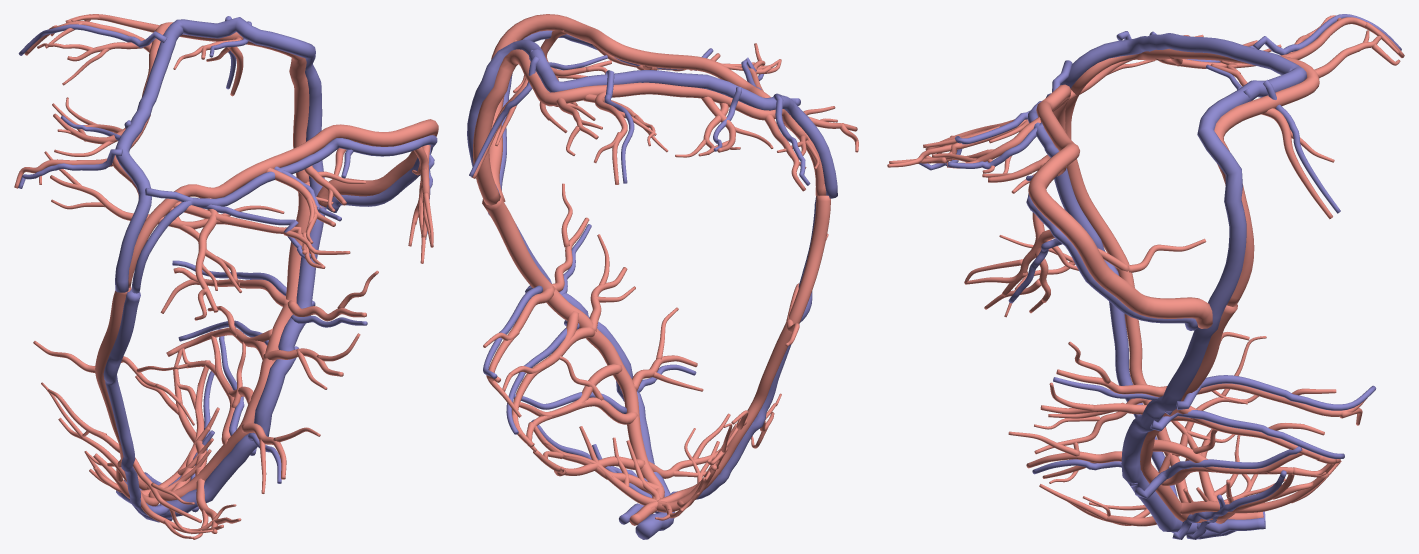
The model's file is vessels_38.glb.
3 renders of one model, left to right at view 1: azimuth 30°, elevation 25°; view 2: azimuth 150°, elevation 25°; view 3: azimuth 270°, elevation 25°, orthographic. The views are drawn at different scales.
Parts seen in each view (by area): view 1: Renderer Node; view 2: Renderer Node; view 3: Renderer Node.
Part boxes in pixels (box(x1,y1,x2,y2)): Renderer Node: box(14, 14, 438, 539); Renderer Node: box(467, 14, 858, 539); Renderer Node: box(887, 14, 1404, 539).
Size of the model in its own units: 92.43 by 112 by 102.
